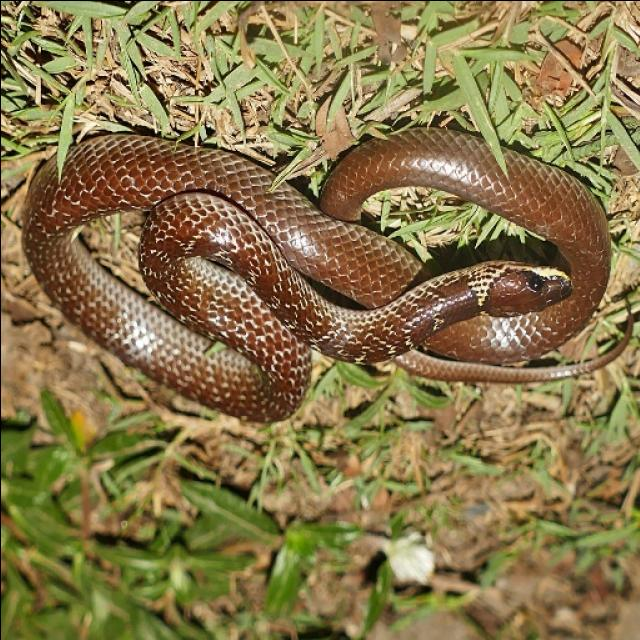snake: (0, 111, 637, 433)
